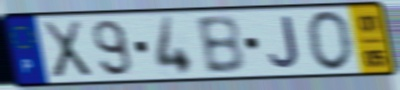4: (154, 14, 195, 79)
9: (90, 18, 135, 78)
B: (193, 13, 248, 76)
J: (267, 14, 303, 71)
O: (305, 9, 356, 73)
X: (39, 18, 95, 81)
